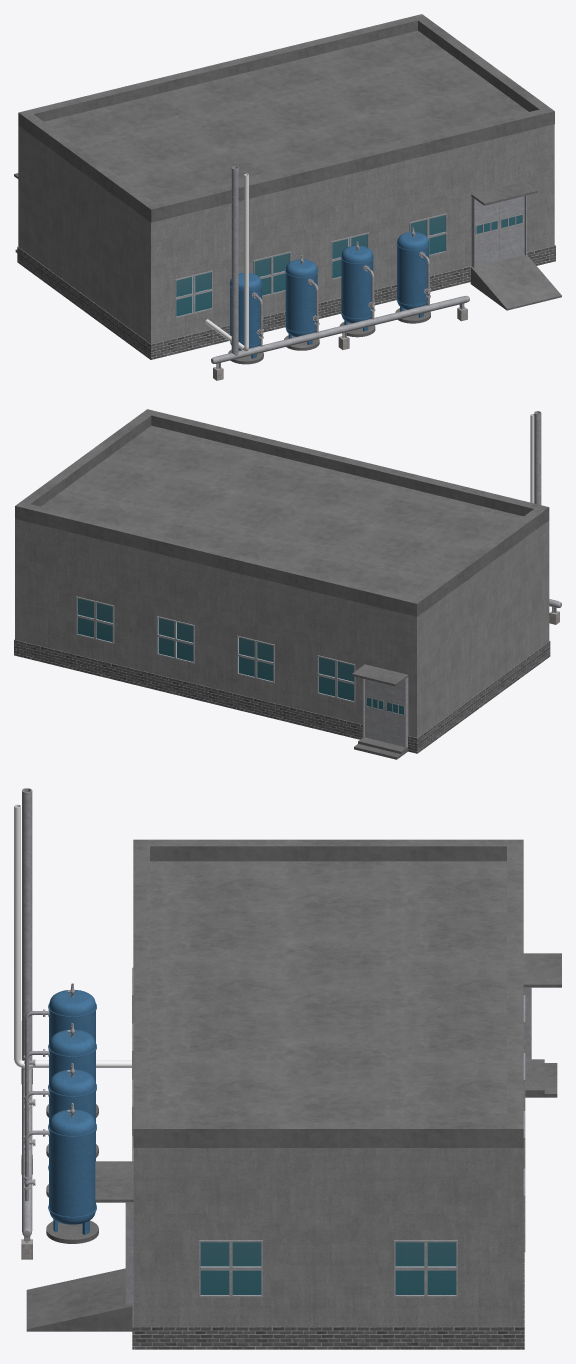
Rendered from 空压站.glb.
The picture shows the model from 3 angles, top to bottom: view 1: azimuth 30°, elevation 25°; view 2: azimuth 150°, elevation 25°; view 3: azimuth 270°, elevation 25°; orthographic projection. The views are drawn at different scales.
Visible parts, largest first — view 1: 空压站03, 空压站00, 空压站05, 空压站04, 空压站02, 空压站01, 空压站08, 空压站07; view 2: 空压站03, 空压站00, 空压站02, 空压站05, 空压站01, 空压站08; view 3: 空压站03, 空压站00, 空压站04, 空压站05, 空压站02, 空压站01, 空压站08, 空压站07.
Part boxes in pixels (x1,y1,x2,y2): 空压站03: [14, 14, 561, 310]; 空压站00: [18, 124, 554, 343]; 空压站05: [175, 166, 526, 368]; 空压站04: [229, 232, 429, 358]; 空压站02: [17, 245, 555, 359]; 空压站01: [176, 215, 522, 316]; 空压站08: [205, 173, 248, 351]; 空压站07: [228, 308, 430, 364]; 空压站03: [15, 409, 549, 759]; 空压站00: [15, 519, 549, 737]; 空压站02: [14, 639, 550, 753]; 空压站05: [76, 411, 561, 748]; 空压站01: [77, 598, 403, 714]; 空压站08: [530, 414, 534, 503]; 空压站03: [26, 839, 561, 1331]; 空压站00: [133, 1148, 523, 1326]; 空压站04: [48, 990, 96, 1234]; 空压站05: [22, 788, 531, 1305]; 空压站02: [132, 1252, 524, 1349]; 空压站01: [200, 1242, 456, 1294]; 空压站08: [14, 804, 131, 1067]; 空压站07: [46, 1104, 98, 1243].
Bounding box in the file's own units: 21.1 × 10.4 × 16.82.
Materials: 9 (8 with a texture image).
